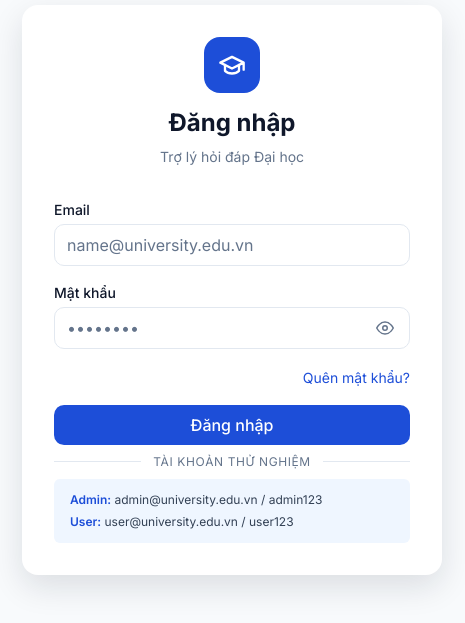
Test case: LoginForm › báo lỗi khi email sai định dạng
Type "khong-phai-email" into the field labelled "Email" at (232, 245), box [54,224,410,266]
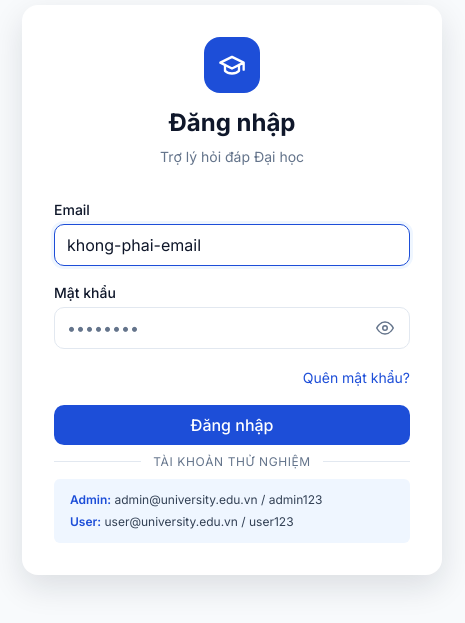
Type "matkhau123" into the password field labelled "Mật khẩu" at (232, 328), box [54,307,410,349]
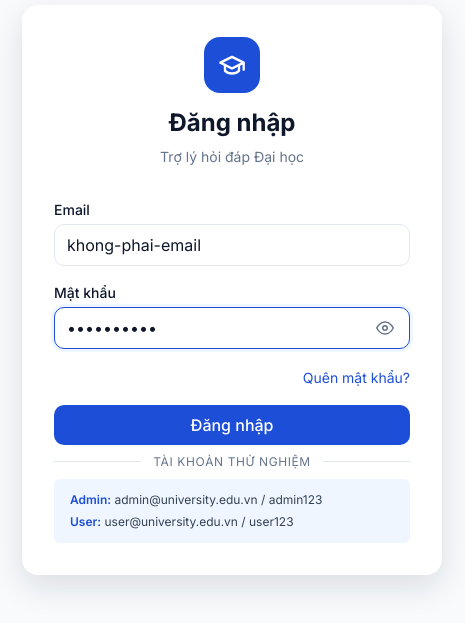
Click the button "Đăng nhập" at (232, 425), box [54,405,410,445]
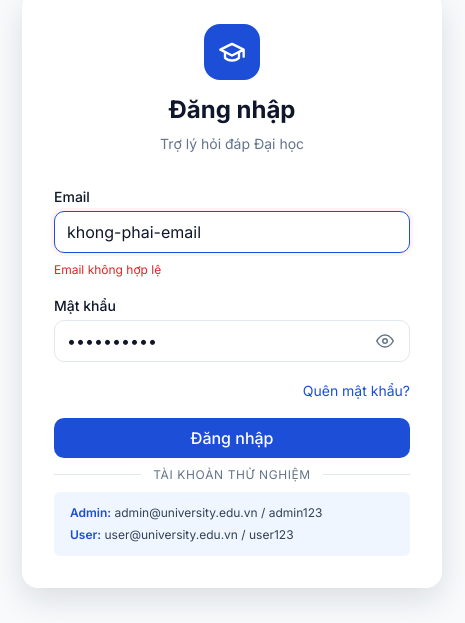
Expected: the text "Email không hợp lệ" is shown, [54,262,161,277]
